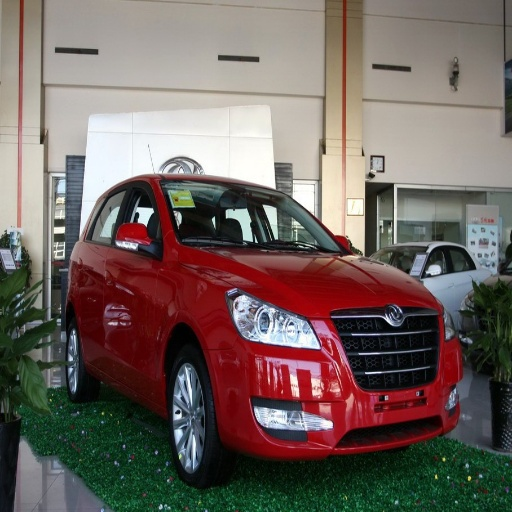front_bumper: (208, 304, 460, 459)
front_right_door: (106, 179, 163, 393)
front_right_light: (226, 287, 321, 349)
